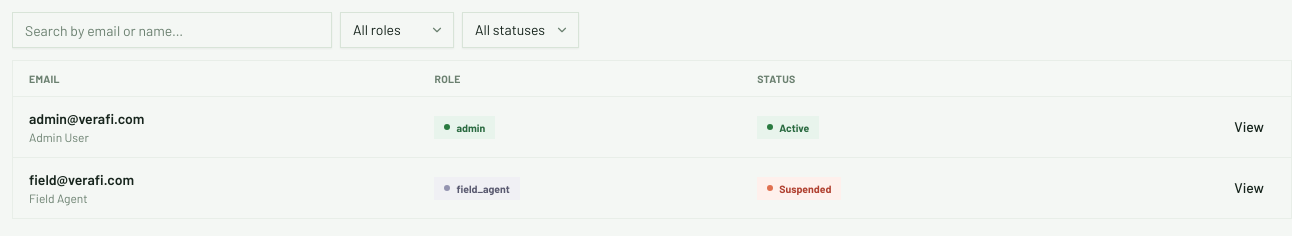
Test: UserTable › filters by status
The width and height of the screenshot is (1292, 236).
Select "Suspended" in the 2nd dropdown showing "All statuses" at [520, 30], box [462, 12, 579, 48]
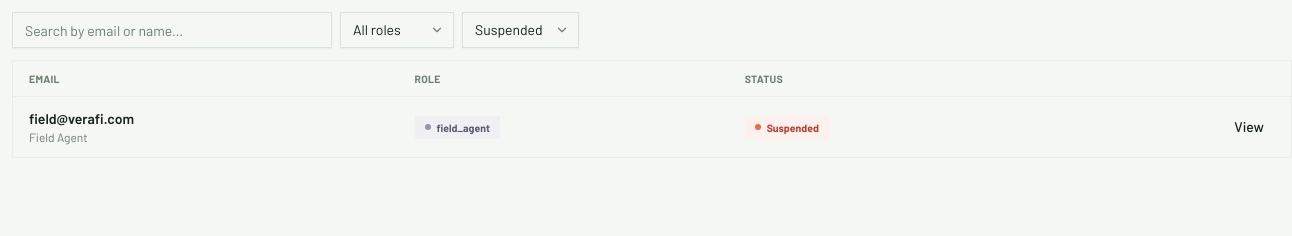
Expected: the text "admin@verafi.com" is gone
Expected: the text "field@verafi.com" is shown, [29, 110, 134, 127]
